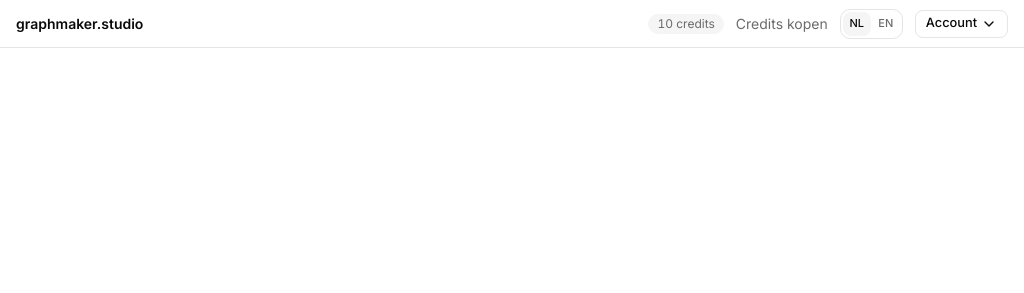
Test: SiteHeader — R9.2 phone header (#214) › the Credits bar link carries the phone-hidden classes; the account menu, once opened, lists Credits then Geschiedenis with the same hrefs
Expected: the link "Geschiedenis" is not shown
Click the button "Account".
click(961, 24)  # box [915,10,1008,38]
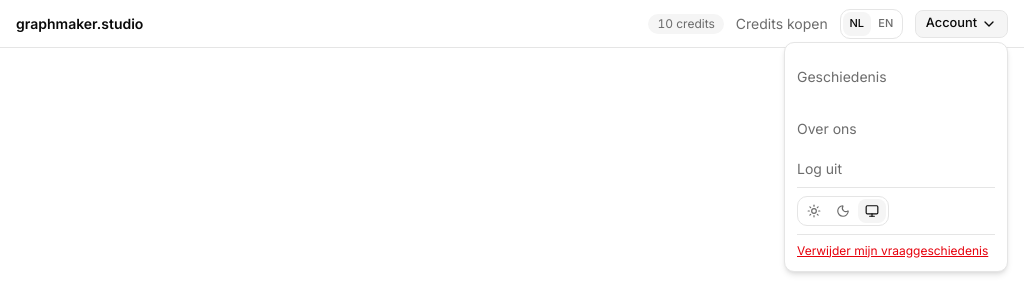
Result: the link "Geschiedenis" is shown at [797,68,887,84]
